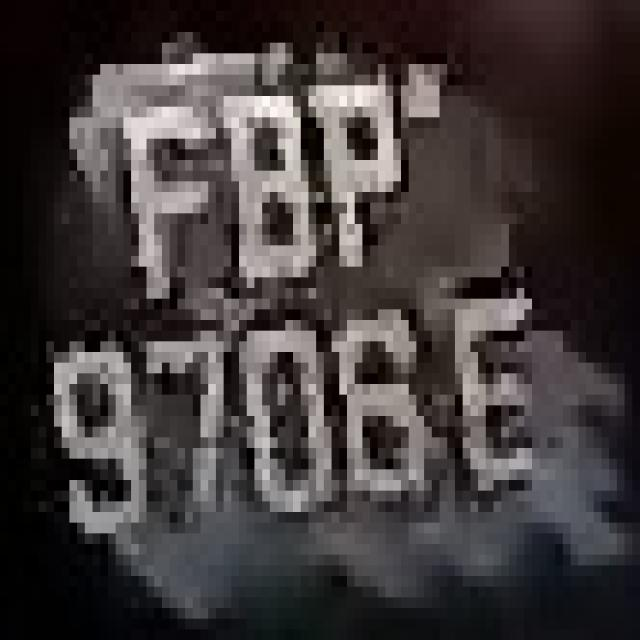0: (231, 299, 347, 533)
6: (324, 277, 439, 523)
7: (131, 320, 231, 544)
9: (46, 320, 146, 565)
B: (200, 85, 308, 288)
E: (440, 288, 548, 501)
F: (108, 64, 224, 299)
P: (301, 74, 416, 298)
